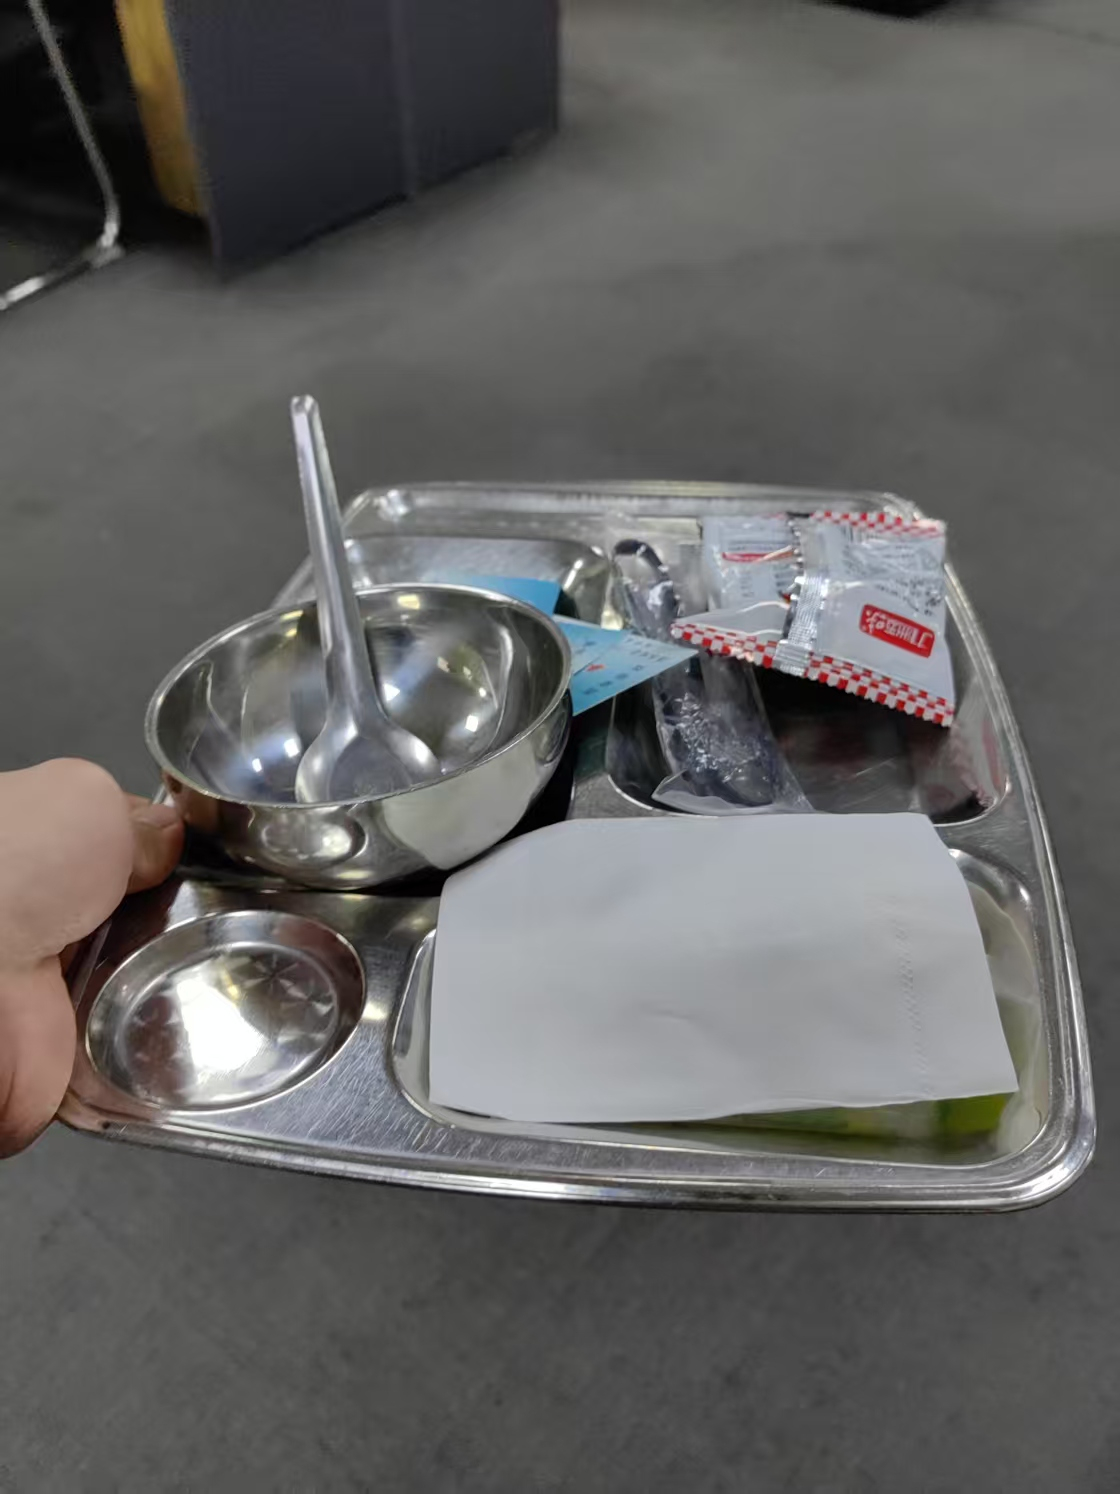mild: (391, 512, 955, 727)
plate: (46, 478, 1102, 1212)
tissue: (422, 807, 1019, 1116)
